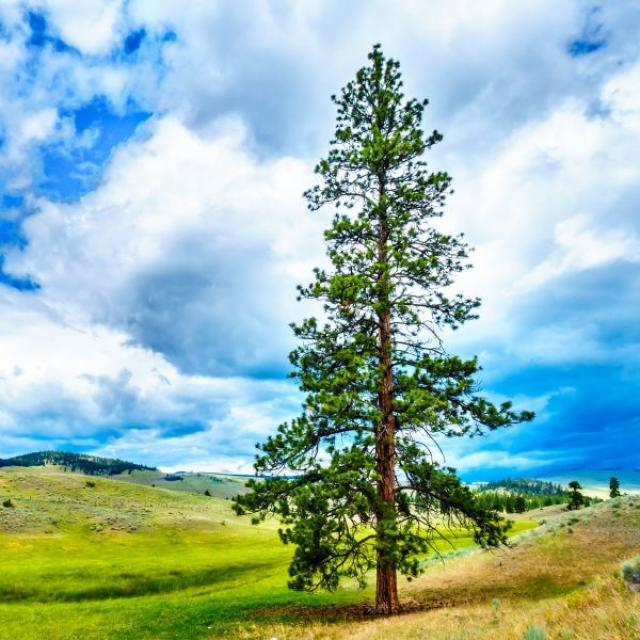Pinus contorta var: (236, 33, 528, 606)
